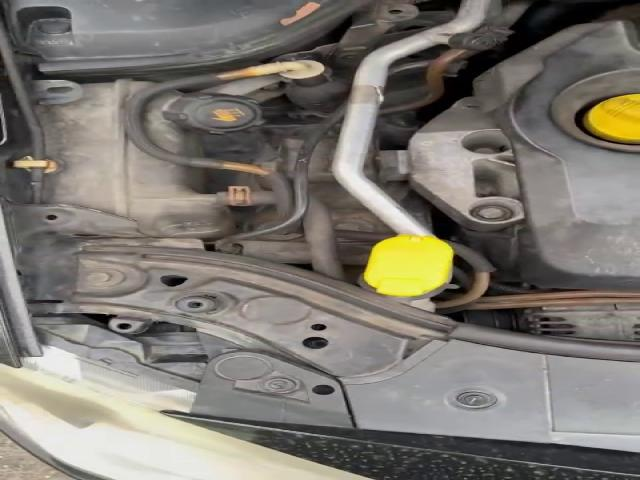antifreeze_tank: (35, 80, 234, 239), (146, 92, 263, 154)
